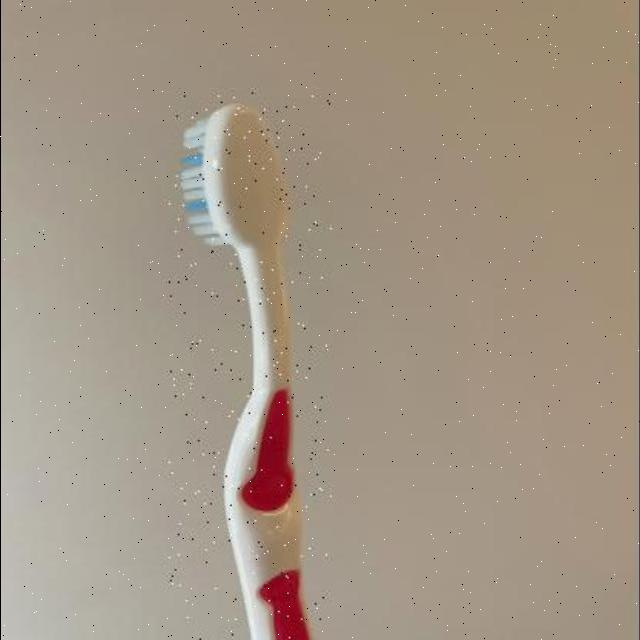toothbrush: (170, 92, 332, 640)
